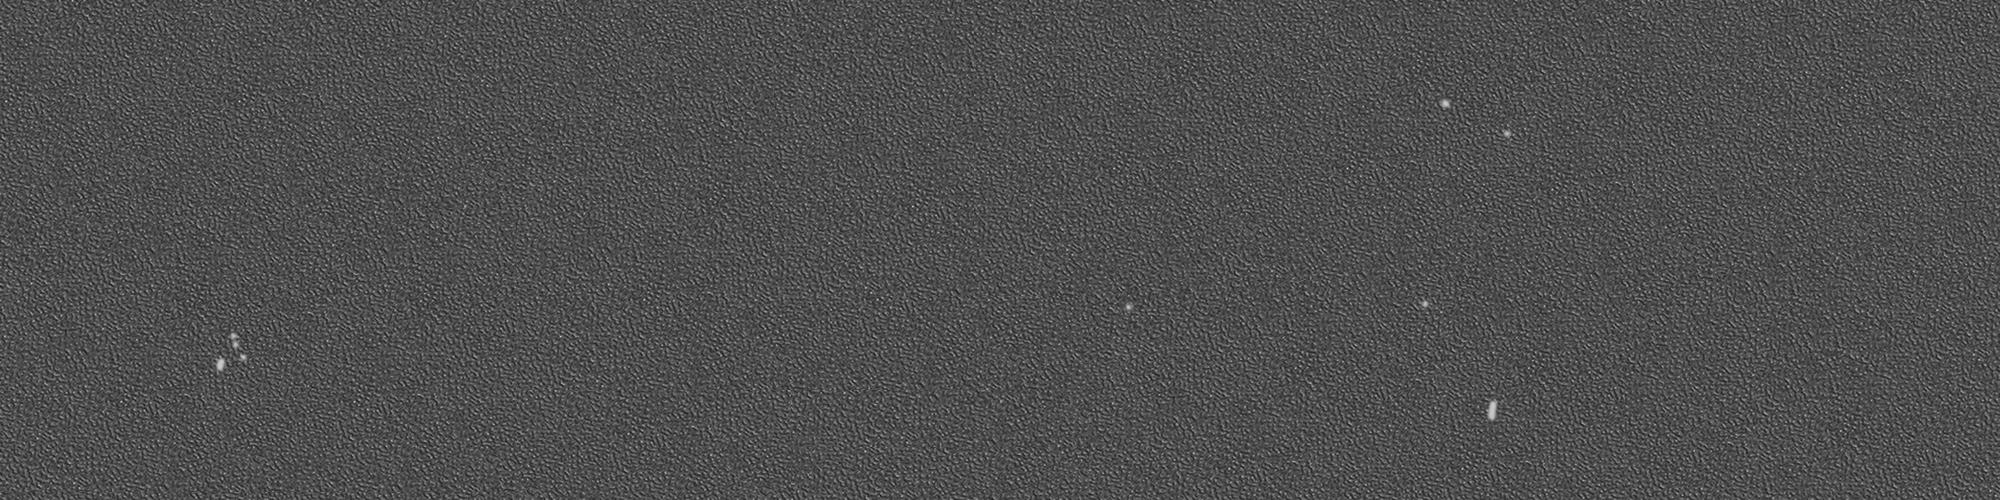Particles: (1483, 394, 1504, 423), (210, 353, 228, 376), (1497, 126, 1517, 142), (1418, 296, 1434, 311), (1122, 300, 1136, 315), (1437, 98, 1452, 111), (226, 330, 240, 341), (237, 355, 250, 364), (230, 341, 240, 351)
